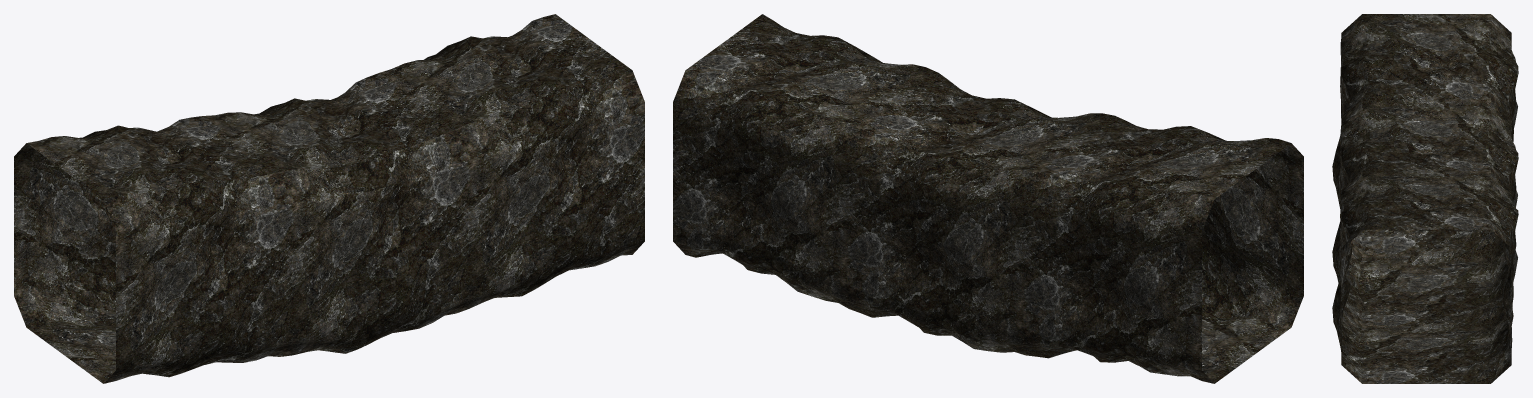
Rendered from Cave_064.fbx.
The picture shows the model from 3 angles, left to right: view 1: azimuth 30°, elevation 25°; view 2: azimuth 150°, elevation 25°; view 3: azimuth 270°, elevation 25°; orthographic projection. The views are drawn at different scales.
Visible parts, largest first — view 1: Cave.064; view 2: Cave.064; view 3: Cave.064.
Part boxes in pixels (left/top/right/bottom): Cave.064: left=14, top=14, right=644, bottom=383; Cave.064: left=673, top=14, right=1303, bottom=383; Cave.064: left=1332, top=14, right=1518, bottom=383.
Size of the model in its own units: 900 by 348 by 328.
